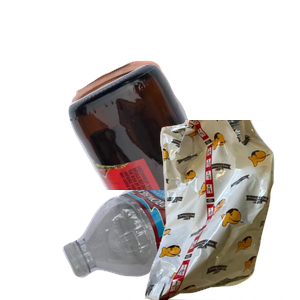glass: (66, 61, 300, 241)
metal: (69, 58, 300, 238)
plastic: (60, 190, 300, 280)
trash: (127, 120, 300, 300)
